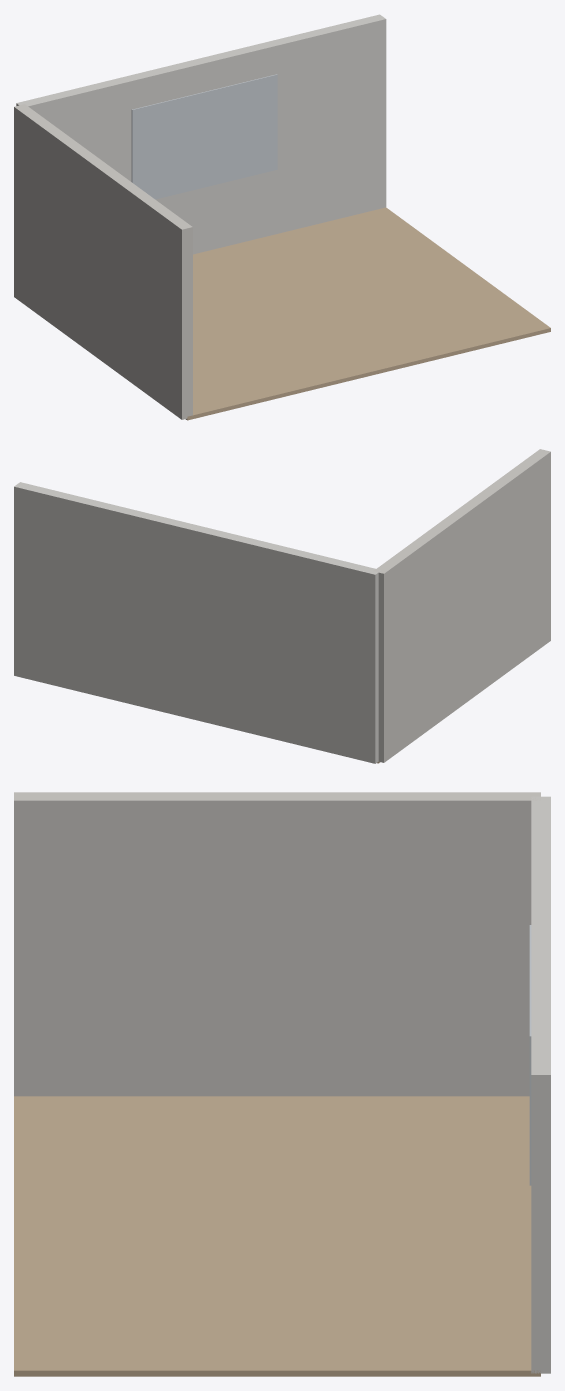
Rendered from room.glb.
The picture shows the model from 3 angles, top to bottom: view 1: azimuth 30°, elevation 25°; view 2: azimuth 150°, elevation 25°; view 3: azimuth 270°, elevation 25°; orthographic projection. The views are drawn at different scales.
Parts seen in each view (by area): view 1: world; view 2: world; view 3: world.
Part boxes in pixels (x1,y1,x2,y2): world: (14, 14, 550, 420); world: (14, 449, 550, 763); world: (14, 792, 550, 1376).
Bounding box in the file's own units: 10.15 × 5.05 × 8.15.
